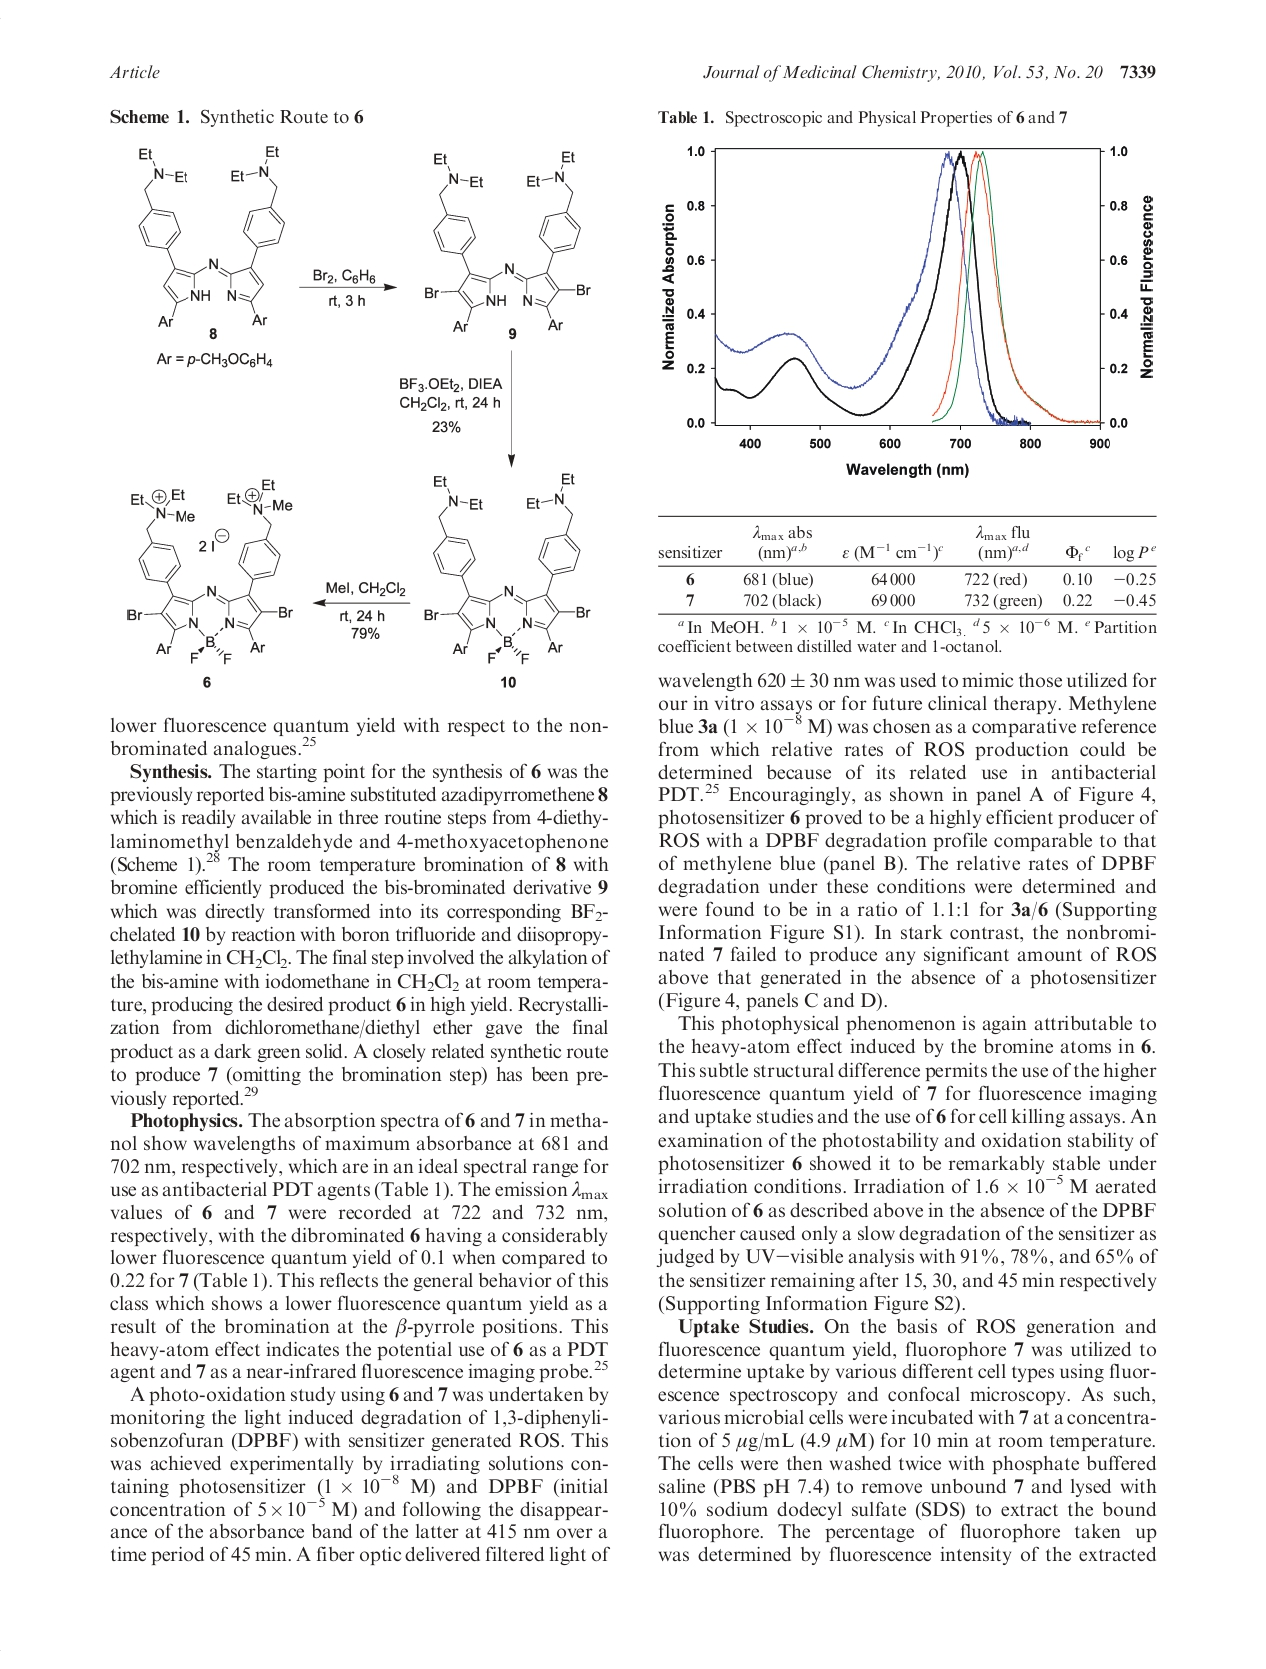exist_molecular: (422, 472, 592, 665), (124, 477, 293, 668), (424, 149, 592, 336), (133, 144, 287, 328)
